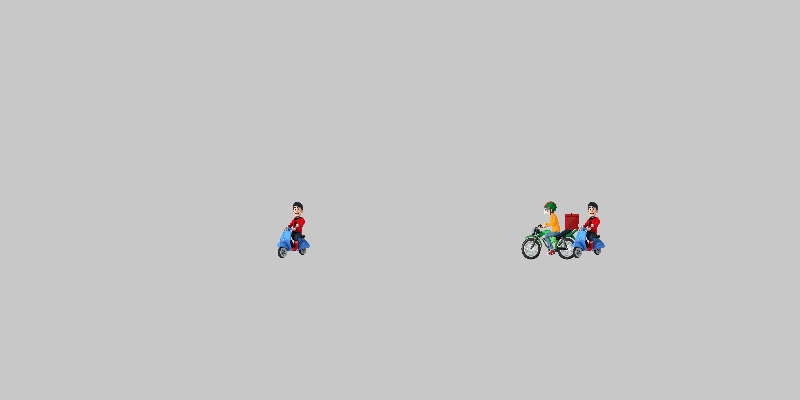helmet: (520, 200, 580, 260)
no_helmet: (265, 200, 325, 260), (560, 200, 620, 260)
